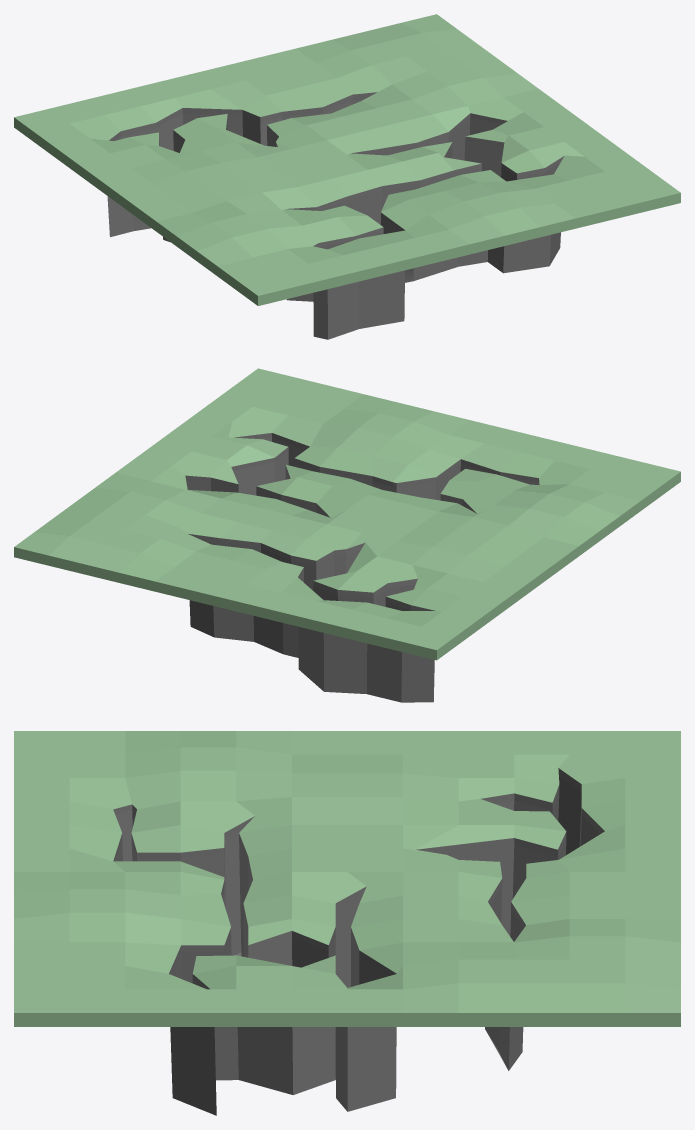
Rendered from Ravine II.fbx.
3 views of the same model, one above another, from view 1: azimuth 30°, elevation 25°; view 2: azimuth 150°, elevation 25°; view 3: azimuth 270°, elevation 25° (orthographic). The views are drawn at different scales.
Visible parts, largest first — view 1: Ravine II; view 2: Ravine II; view 3: Ravine II.
Part boxes in pixels (left/top/right/bottom): Ravine II: left=14, top=14, right=680, bottom=339; Ravine II: left=14, top=368, right=680, bottom=702; Ravine II: left=14, top=731, right=680, bottom=1115.
Size of the model in its own units: 1603 by 375 by 1603.
